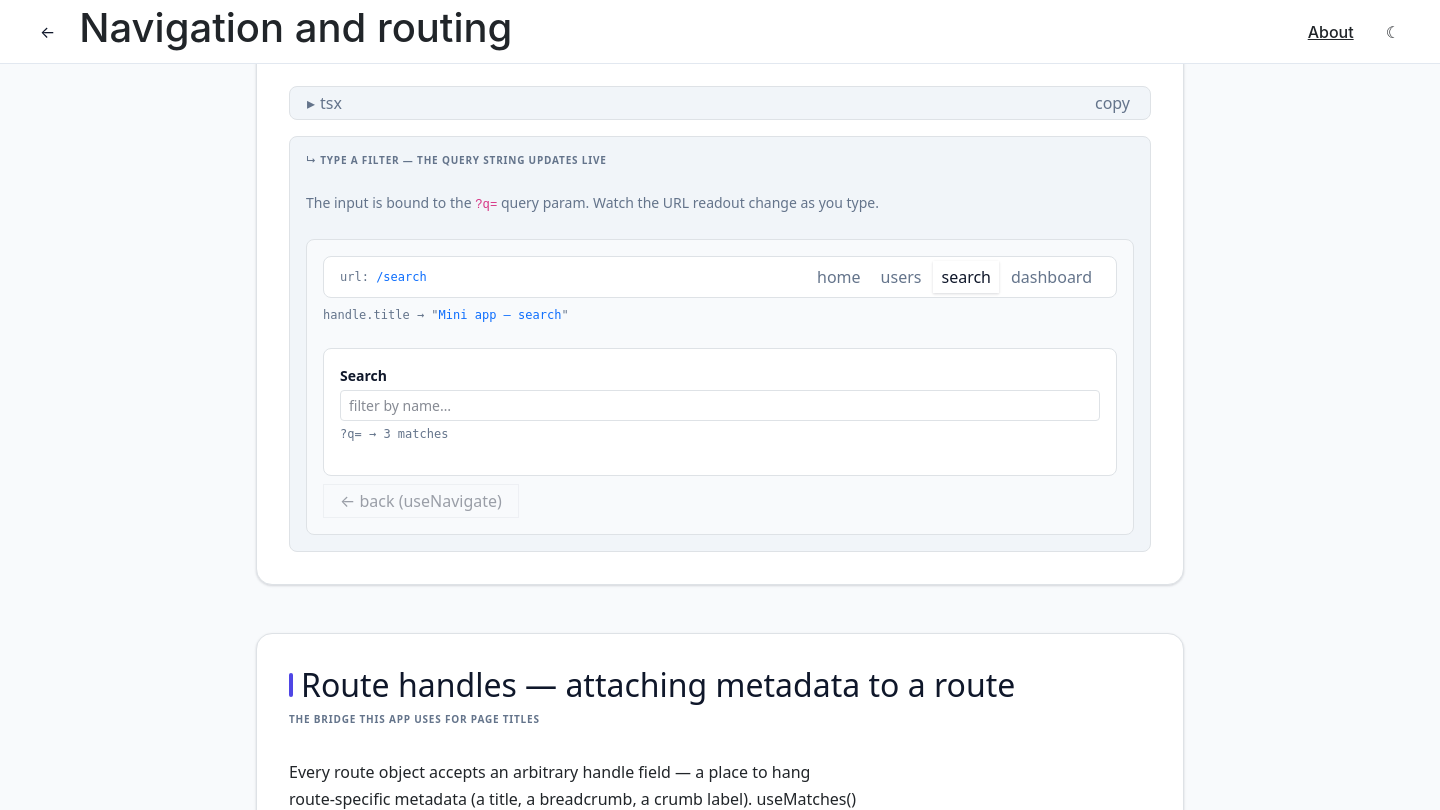
it: Navigation and routing screen › the search demo writes the ?q= query param
(page scrolled)
In the field with placeholder "filter by name…": (720, 405) [340,390,1100,421], type "al"
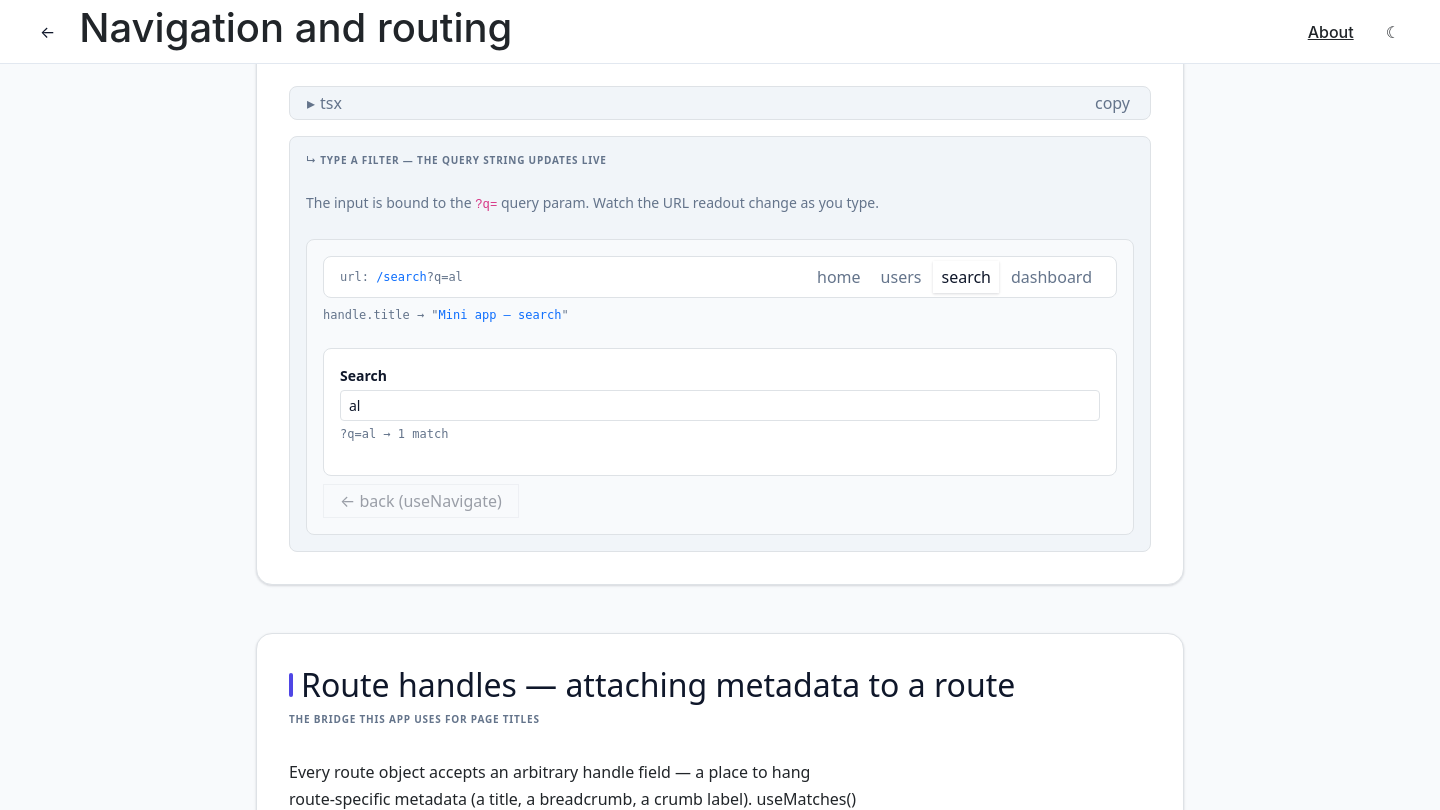
Now the element with test id "search-screen" shows "?q=al", box [323,348,1117,476]
